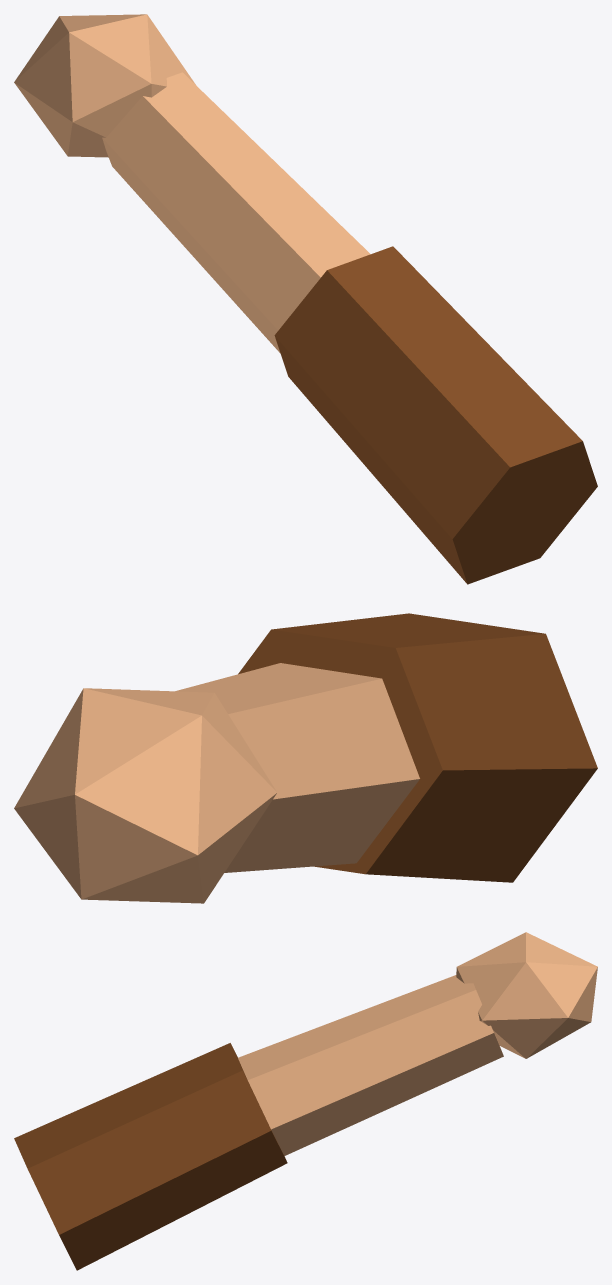
The model's file is hand.glb.
The picture shows the model from 3 angles, top to bottom: view 1: azimuth 30°, elevation 25°; view 2: azimuth 150°, elevation 25°; view 3: azimuth 270°, elevation 25°; orthographic projection. The views are drawn at different scales.
Parts seen in each view (by area): view 1: hand; view 2: hand; view 3: hand.
Boxes of the visible parts, x1,y1,x2,y2 form: hand: (14, 14, 597, 584); hand: (14, 613, 597, 903); hand: (14, 932, 597, 1270).
Bounding box in the file's own units: 0.166 × 0.2248 × 0.4374.
